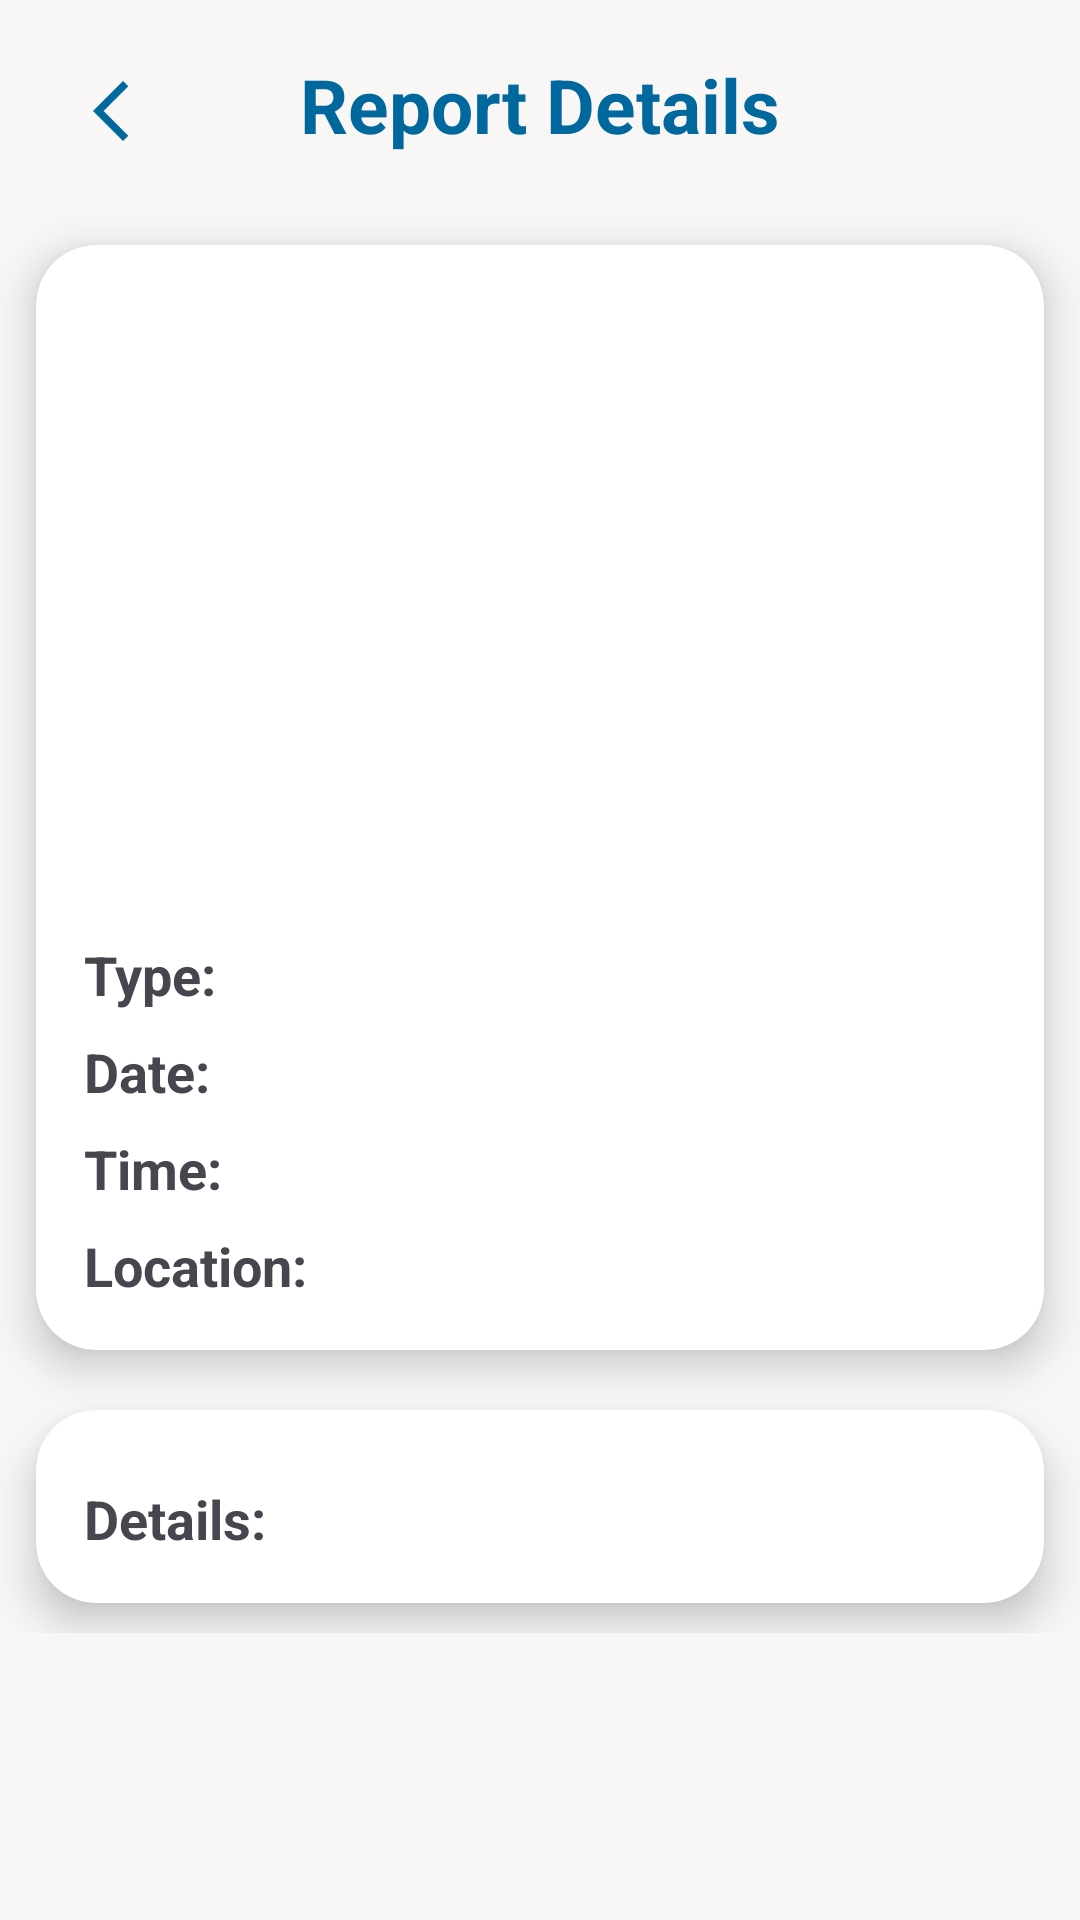

Screen size 1080px×1920px. Icon name, then its center in pixels as (x=x, y=y):
back: (x=110, y=111)
